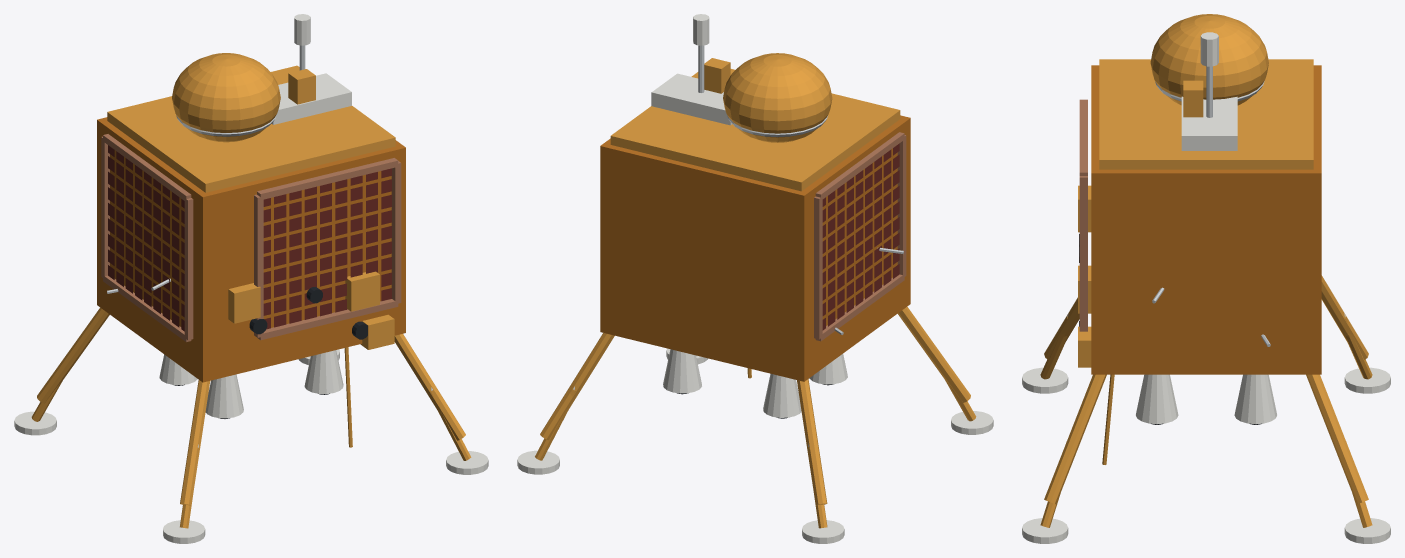
Rendered from CHANDRAYAAN-3.glb.
3 views of the same model, side by side, from view 1: azimuth 30°, elevation 25°; view 2: azimuth 150°, elevation 25°; view 3: azimuth 270°, elevation 25° (orthographic). The views are drawn at different scales.
Parts seen in each view (by area): view 1: CH3_VIKRAM_MAIN_BODY, CH3_VIKRAM_MLI_DETAILS, CH3_VIKRAM_FRONT_SOLAR_CELLS, CH3_VIKRAM_TOP_GOLD_DOME, CH3_VIKRAM_LEFT_SOLAR_CELLS, CH3_VIKRAM_FRONT_SOLAR_FRAME, CH3_VIKRAM_MAIN_LANDING_LEGS, CH3_VIKRAM_LEFT_SOLAR_FRAME, CH3_VIKRAM_DESCENT_ENGINES, CH3_VIKRAM_FRONT_EQUIPMENT_BOXES, CH3_VIKRAM_LANDING_FOOT_PADS, CH3_VIKRAM_TOP_WHITE_PLATFORM (+4 smaller); view 2: CH3_VIKRAM_MAIN_BODY, CH3_VIKRAM_MLI_DETAILS, CH3_VIKRAM_LEFT_SOLAR_CELLS, CH3_VIKRAM_TOP_GOLD_DOME, CH3_VIKRAM_MAIN_LANDING_LEGS, CH3_VIKRAM_LEFT_SOLAR_FRAME, CH3_VIKRAM_DESCENT_ENGINES, CH3_VIKRAM_LANDING_FOOT_PADS, CH3_VIKRAM_TOP_WHITE_PLATFORM, CH3_VIKRAM_LOWER_LEG_SECTIONS, CH3_VIKRAM_TOP_COMMUNICATION_HARDWARE, CH3_VIKRAM_TOP_SENSOR_UNIT; view 3: CH3_VIKRAM_MAIN_BODY, CH3_VIKRAM_MLI_DETAILS, CH3_VIKRAM_TOP_GOLD_DOME, CH3_VIKRAM_MAIN_LANDING_LEGS, CH3_VIKRAM_LANDING_FOOT_PADS, CH3_VIKRAM_DESCENT_ENGINES, CH3_VIKRAM_TOP_WHITE_PLATFORM, CH3_VIKRAM_FRONT_SOLAR_FRAME, CH3_VIKRAM_LOWER_LEG_SECTIONS, CH3_VIKRAM_FRONT_EQUIPMENT_BOXES, CH3_VIKRAM_TOP_COMMUNICATION_HARDWARE, CH3_VIKRAM_TOP_SENSOR_UNIT (+1 smaller).
Part boxes in pixels (x1,y1,x2,y2): CH3_VIKRAM_MAIN_BODY: [97, 117, 405, 382]; CH3_VIKRAM_MLI_DETAILS: [107, 65, 395, 192]; CH3_VIKRAM_FRONT_SOLAR_CELLS: [263, 168, 391, 329]; CH3_VIKRAM_TOP_GOLD_DOME: [172, 53, 280, 142]; CH3_VIKRAM_LEFT_SOLAR_CELLS: [108, 145, 184, 331]; CH3_VIKRAM_FRONT_SOLAR_FRAME: [254, 158, 401, 340]; CH3_VIKRAM_MAIN_LANDING_LEGS: [37, 307, 465, 505]; CH3_VIKRAM_LEFT_SOLAR_FRAME: [101, 134, 193, 342]; CH3_VIKRAM_DESCENT_ENGINES: [159, 350, 343, 418]; CH3_VIKRAM_FRONT_EQUIPMENT_BOXES: [228, 271, 394, 349]; CH3_VIKRAM_LANDING_FOOT_PADS: [14, 349, 488, 543]; CH3_VIKRAM_TOP_WHITE_PLATFORM: [271, 73, 351, 124]; CH3_VIKRAM_MAIN_BODY: [600, 115, 910, 381]; CH3_VIKRAM_MLI_DETAILS: [610, 69, 900, 191]; CH3_VIKRAM_LEFT_SOLAR_CELLS: [822, 143, 899, 330]; CH3_VIKRAM_TOP_GOLD_DOME: [723, 53, 832, 142]; CH3_VIKRAM_MAIN_LANDING_LEGS: [540, 306, 970, 505]; CH3_VIKRAM_LEFT_SOLAR_FRAME: [814, 132, 906, 341]; CH3_VIKRAM_DESCENT_ENGINES: [663, 349, 847, 417]; CH3_VIKRAM_LANDING_FOOT_PADS: [517, 348, 993, 543]; CH3_VIKRAM_TOP_WHITE_PLATFORM: [651, 73, 731, 125]; CH3_VIKRAM_LOWER_LEG_SECTIONS: [535, 380, 976, 528]; CH3_VIKRAM_TOP_COMMUNICATION_HARDWARE: [693, 14, 709, 92]; CH3_VIKRAM_TOP_SENSOR_UNIT: [704, 58, 730, 93]; CH3_VIKRAM_MAIN_BODY: [1091, 65, 1321, 374]; CH3_VIKRAM_MLI_DETAILS: [1099, 59, 1313, 169]; CH3_VIKRAM_TOP_GOLD_DOME: [1150, 14, 1268, 105]; CH3_VIKRAM_MAIN_LANDING_LEGS: [1044, 275, 1368, 504]; CH3_VIKRAM_LANDING_FOOT_PADS: [1022, 367, 1390, 543]; CH3_VIKRAM_DESCENT_ENGINES: [1136, 374, 1276, 424]; CH3_VIKRAM_TOP_WHITE_PLATFORM: [1181, 96, 1237, 150]; CH3_VIKRAM_FRONT_SOLAR_FRAME: [1079, 99, 1087, 331]; CH3_VIKRAM_LOWER_LEG_SECTIONS: [1040, 316, 1372, 527]; CH3_VIKRAM_FRONT_EQUIPMENT_BOXES: [1078, 185, 1091, 367]; CH3_VIKRAM_TOP_COMMUNICATION_HARDWARE: [1200, 32, 1218, 117]; CH3_VIKRAM_TOP_SENSOR_UNIT: [1183, 80, 1203, 117].
Size of the model in its own units: 2.44 by 3.02 by 2.24.
